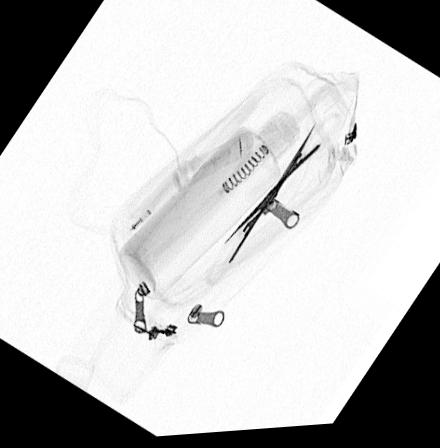Scissors: (205, 116, 341, 290)
